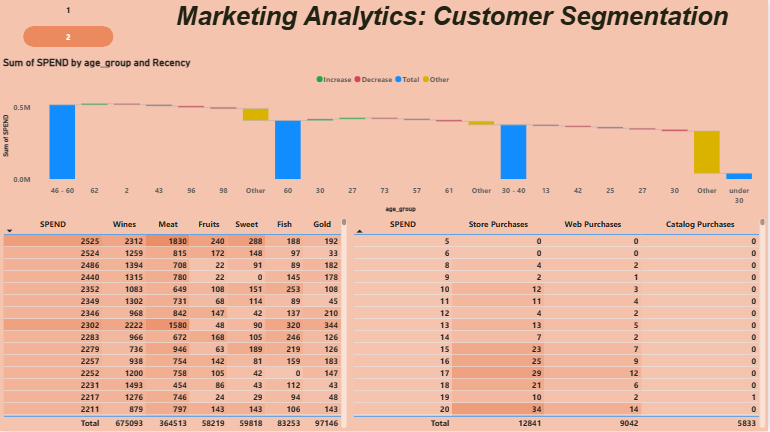

This screenshot's page, from the dashboard's own definition file:
{"tool":"powerbi","page":{"name":"2","canvas":[1280,720],"ordinal":1},"visuals":[{"type":"tableEx","title":"product and spend","fields":{"Values":["ifood.MNT_TOTAL","Sum(ifood.MntWines)","Sum(ifood.MntMeatProducts)","Sum(ifood.MntFruits)","Sum(ifood.MntSweetProducts)","Sum(ifood.MntFishProducts)","Sum(ifood.MntGoldProds)"]},"box":[0,360,583.3,360],"z":0},{"type":"waterfallChart","fields":{"Y":["Sum(ifood.SPEND)"],"Breakdown":["ifood.Recency"],"Category":["ifood.age_group"]},"box":[0,95,1280,265],"z":1000},{"type":"tableEx","fields":{"Values":["ifood.MNT_TOTAL","Sum(ifood.NumStorePurchases)","Sum(ifood.NumWebPurchases)","Sum(ifood.NumCatalogPurchases)"]},"box":[583.3,360,696.7,360],"z":2000},{"type":"textbox","box":[271.7,0,963.3,81.7],"z":2001},{"type":"pageNavigator","box":[38.3,0,151.7,81.7],"z":2002}]}

Visuals, with their boxes on the page's 1280x720 design canvas (x1, y1, x2, y2). These are canvas units, not pixel positions in the 770x432 screenshot, which may show the page scaled, cropped or inside an application window:
"product and spend" tableEx: box=[0, 360, 583, 720]
waterfallChart - Sum(ifood.SPEND) x ifood.Recency: box=[0, 95, 1280, 360]
tableEx - ifood.MNT_TOTAL x Sum(ifood.NumStorePurchases): box=[583, 360, 1280, 720]
textbox: box=[272, 0, 1235, 82]
pageNavigator: box=[38, 0, 190, 82]
